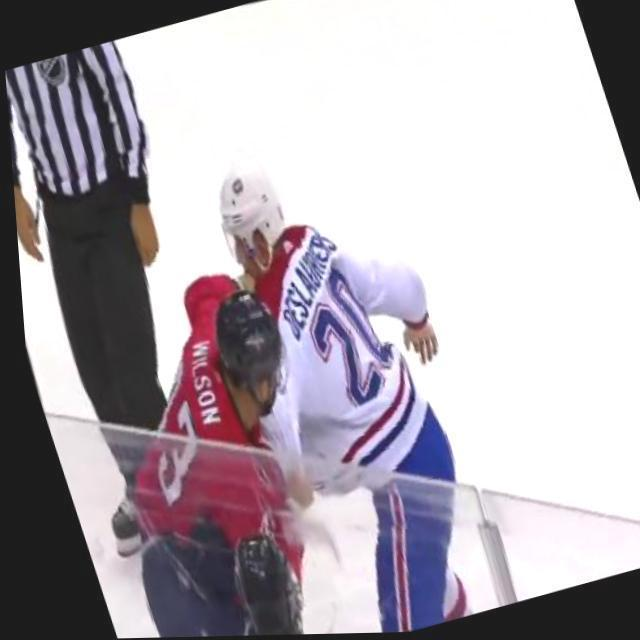fight: (6, 103, 528, 640)
